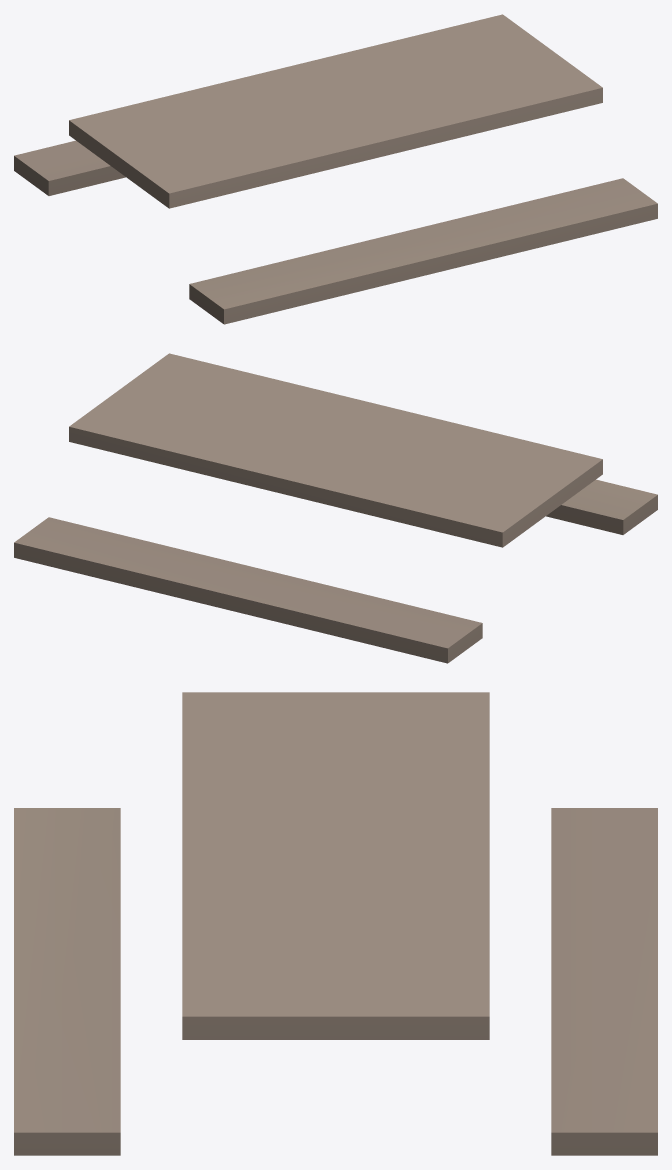
The model's file is picnic.lod2.glb.
3 views of the same model, one above another, from view 1: azimuth 30°, elevation 25°; view 2: azimuth 150°, elevation 25°; view 3: azimuth 270°, elevation 25° (orthographic). The views are drawn at different scales.
Size of the model in its own units: 1.8 by 0.36 by 1.51.
